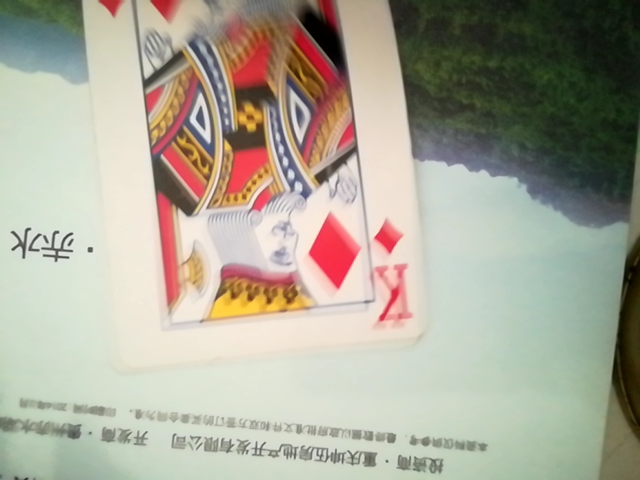fk k: (73, 0, 430, 365)
